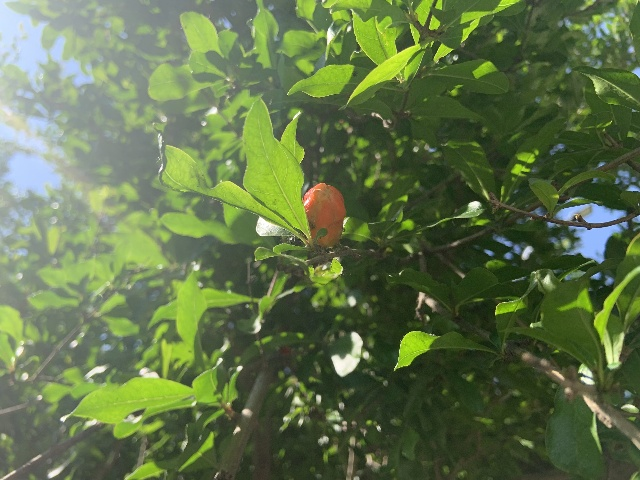bud: (303, 181, 346, 247)
